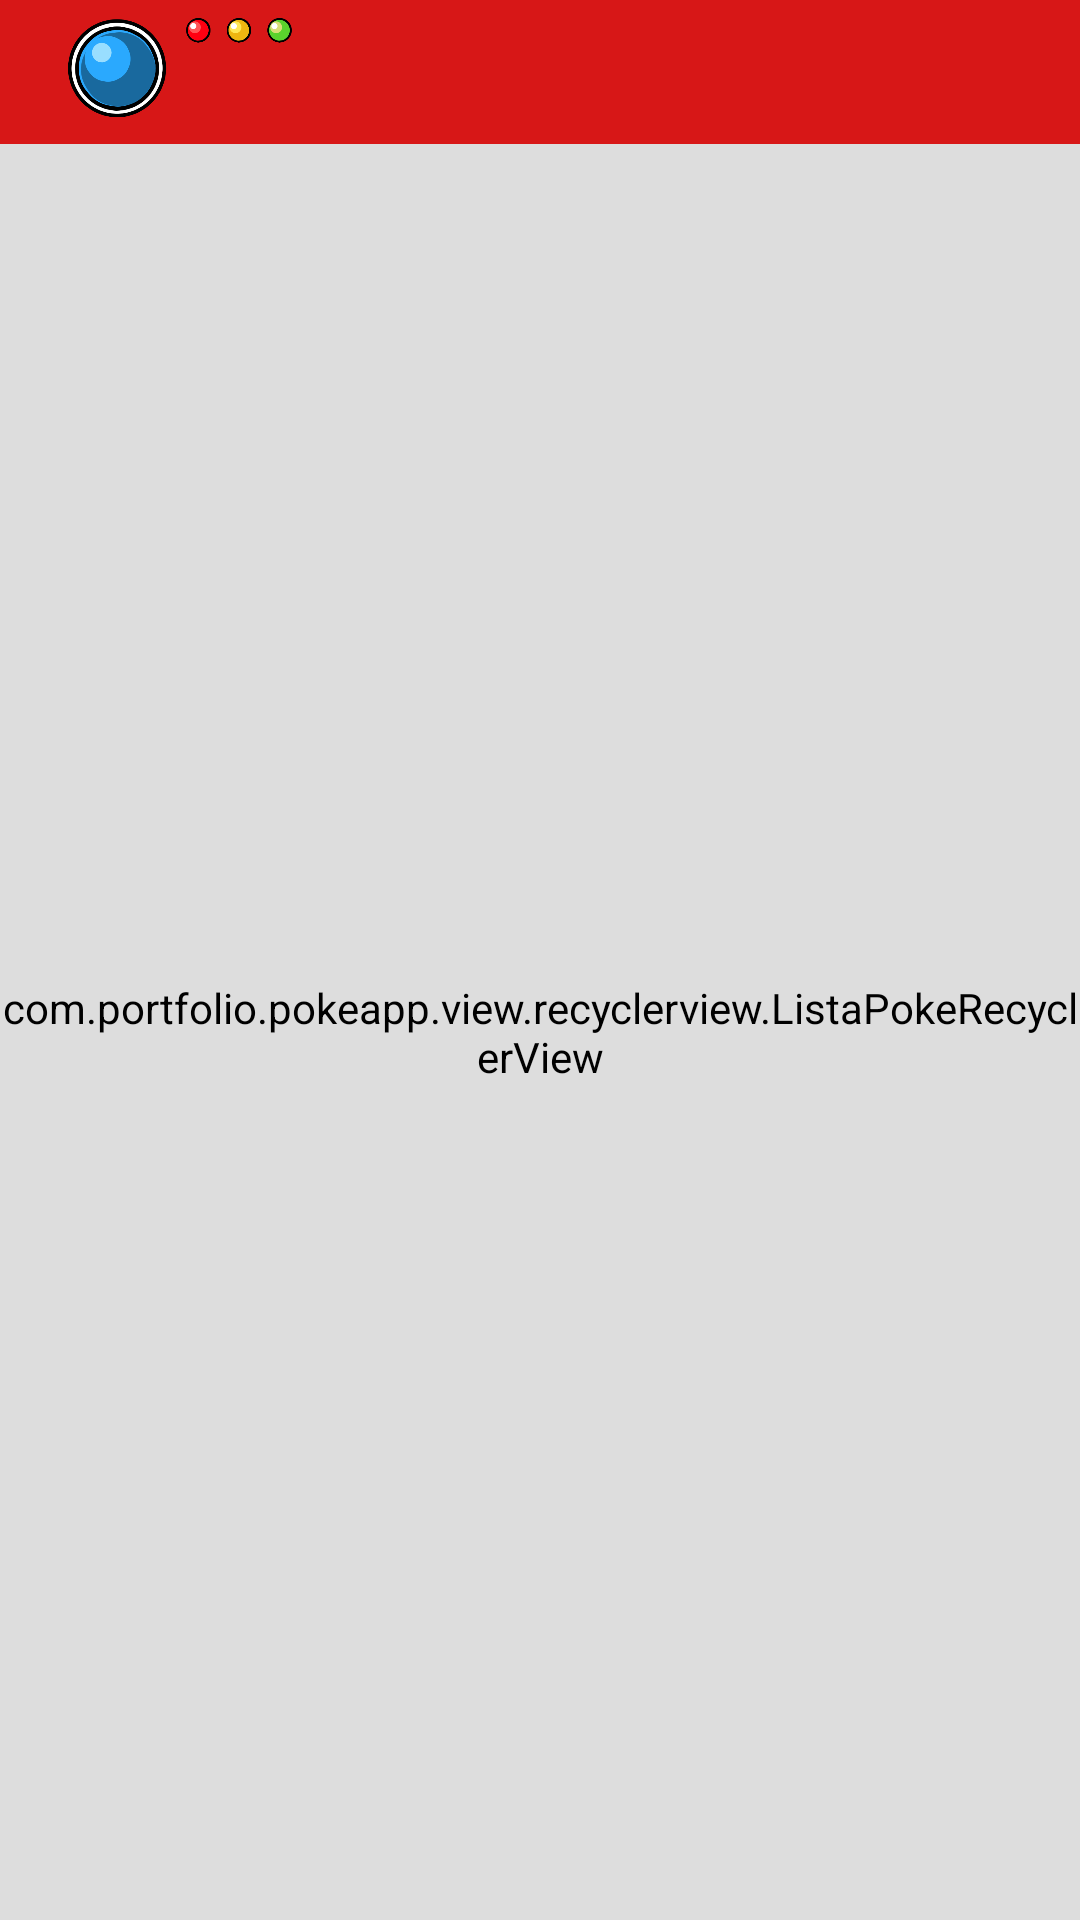

Icons on this 1080w x 1920h Android screen, each with the point to tap as (x,y):
topbar lights: (180,67)
